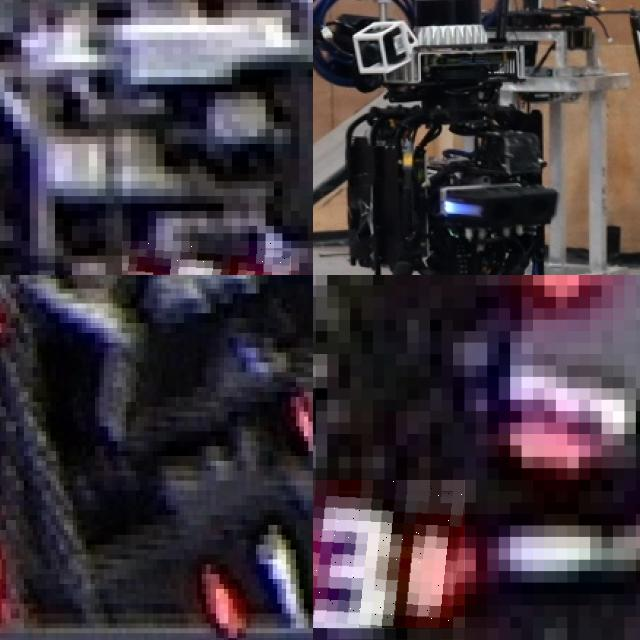R1: (199, 500, 313, 640)
R2: (122, 241, 290, 275)
R3: (313, 479, 464, 628)
